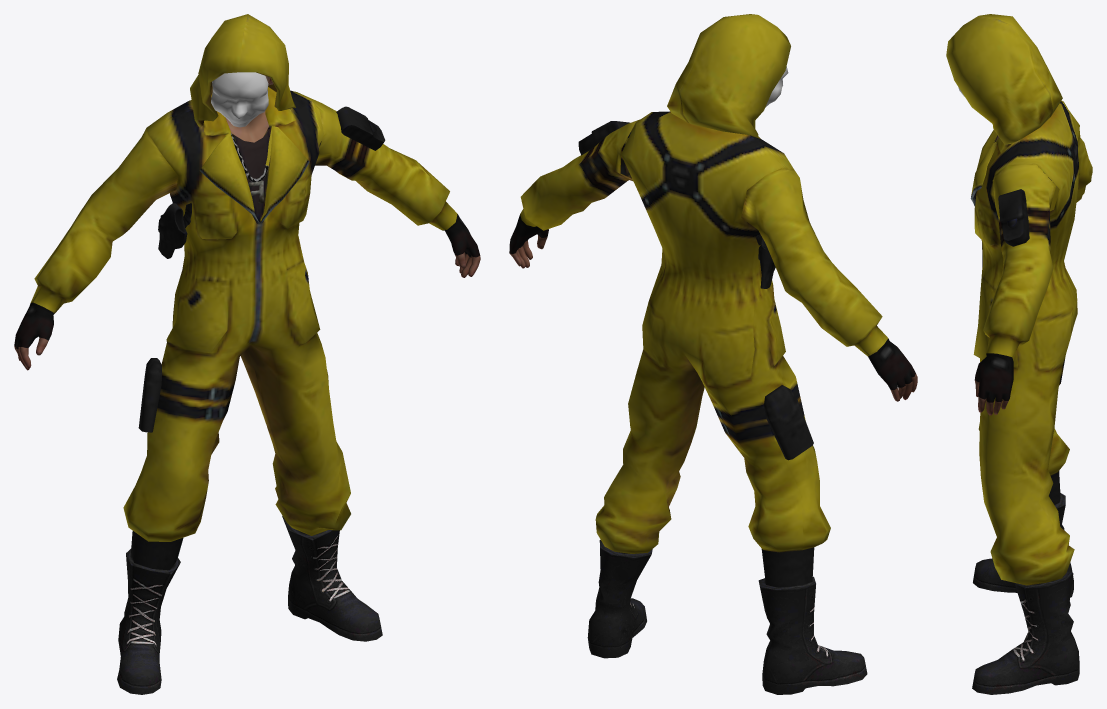
Rendered from yellow.obj.
3 views of the same model, side by side, from view 1: azimuth 30°, elevation 25°; view 2: azimuth 150°, elevation 25°; view 3: azimuth 270°, elevation 25° (orthographic). The views are drawn at different scales.
Parts seen in each view (by area): view 1: Mesh_3464.rip_Mesh_3464.rip_mesh0000, Mesh_3400.rip_Mesh_3400.rip_mesh0000; view 2: Mesh_3464.rip_Mesh_3464.rip_mesh0000; view 3: Mesh_3464.rip_Mesh_3464.rip_mesh0000.
Boxes of the visible parts, <box> form: Mesh_3464.rip_Mesh_3464.rip_mesh0000: <box>14,14,480,694</box>; Mesh_3400.rip_Mesh_3400.rip_mesh0000: <box>211,72,268,127</box>; Mesh_3464.rip_Mesh_3464.rip_mesh0000: <box>509,14,917,694</box>; Mesh_3464.rip_Mesh_3464.rip_mesh0000: <box>946,14,1092,694</box>.
Bounding box in the file's own units: 9.47 × 13.44 × 2.9.
